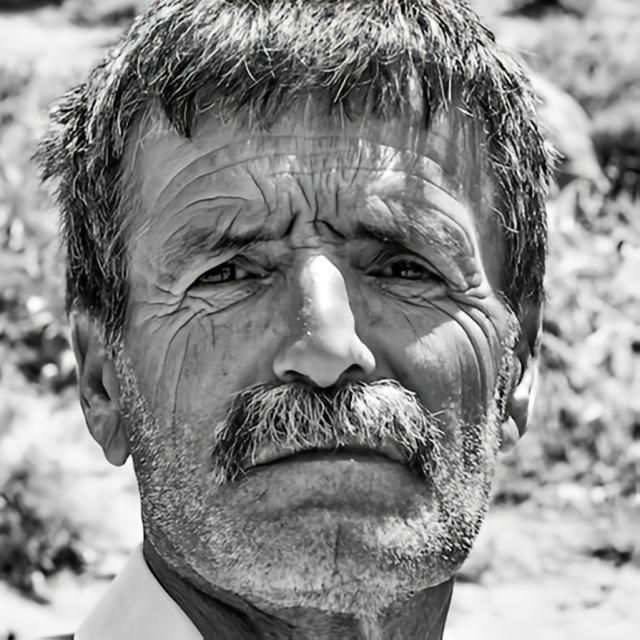sad: (110, 107, 524, 626)
